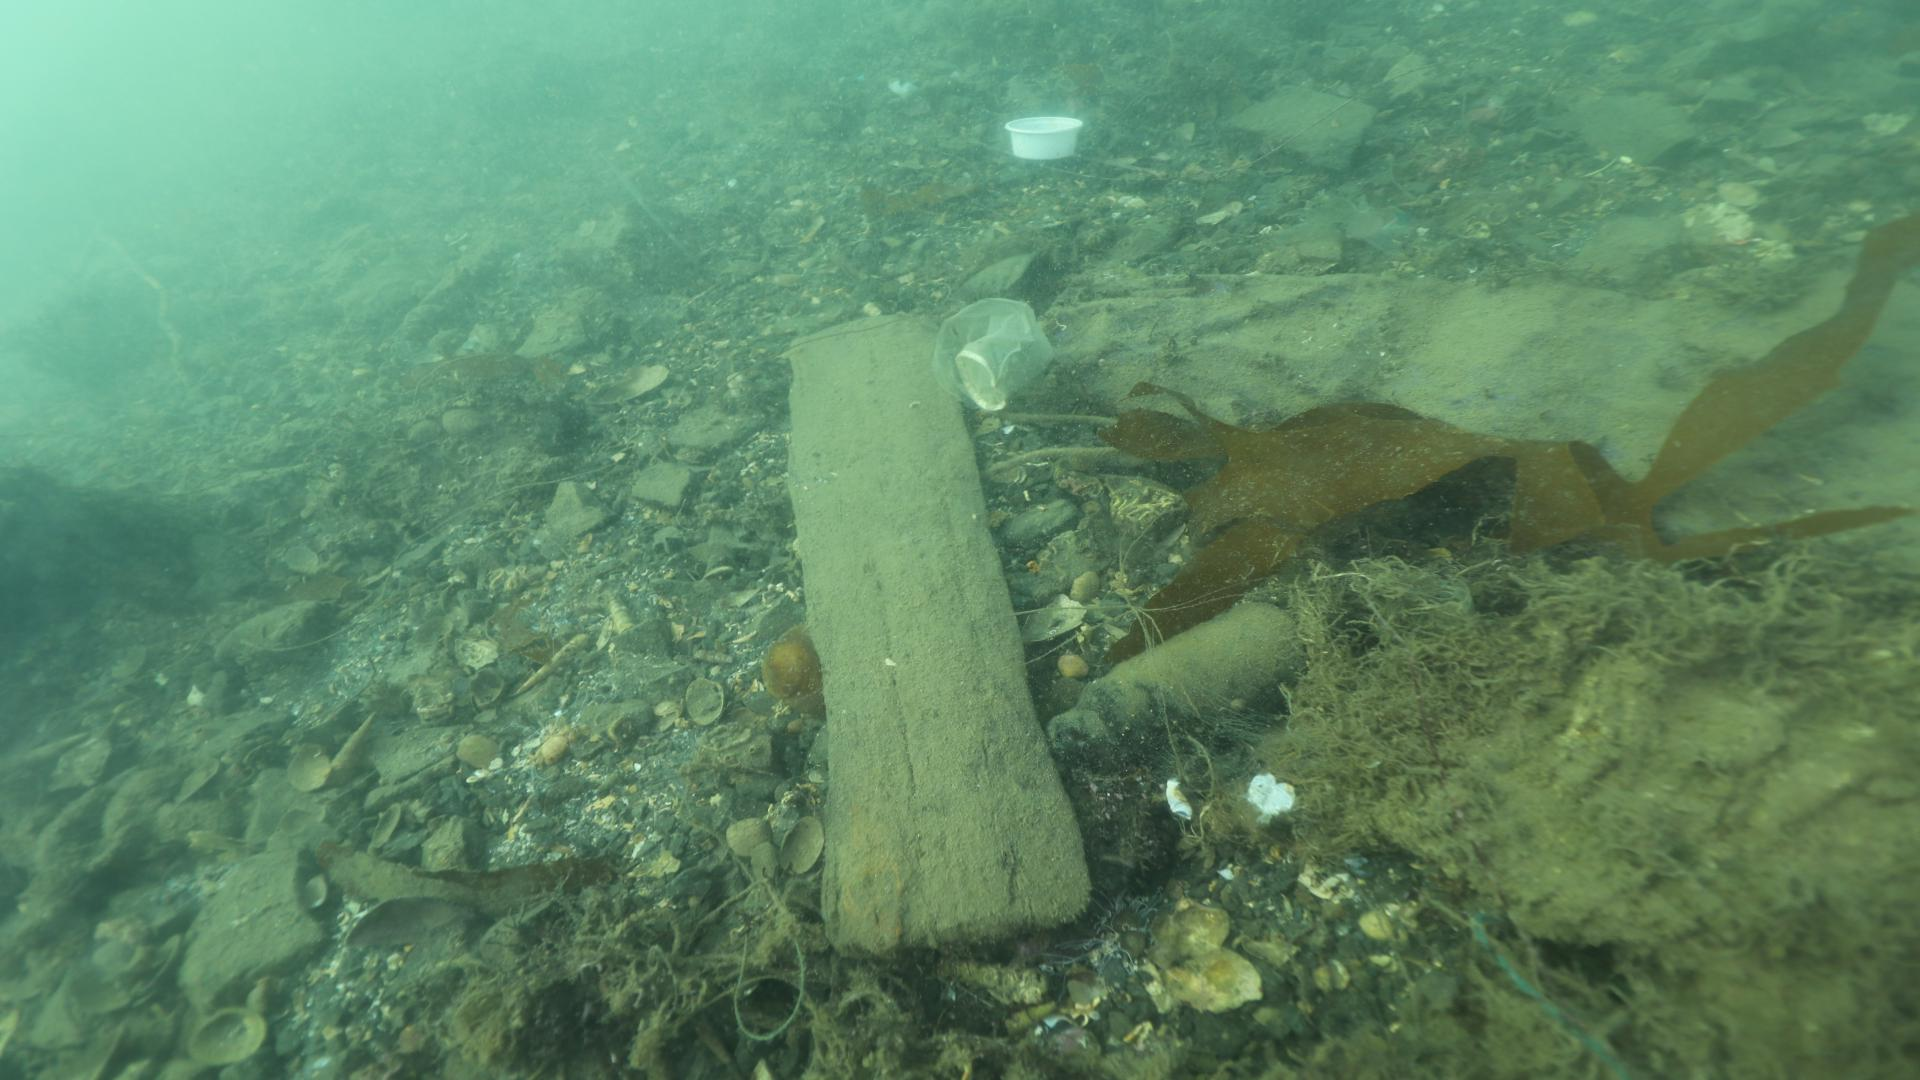wood: (781, 310, 1102, 971)
